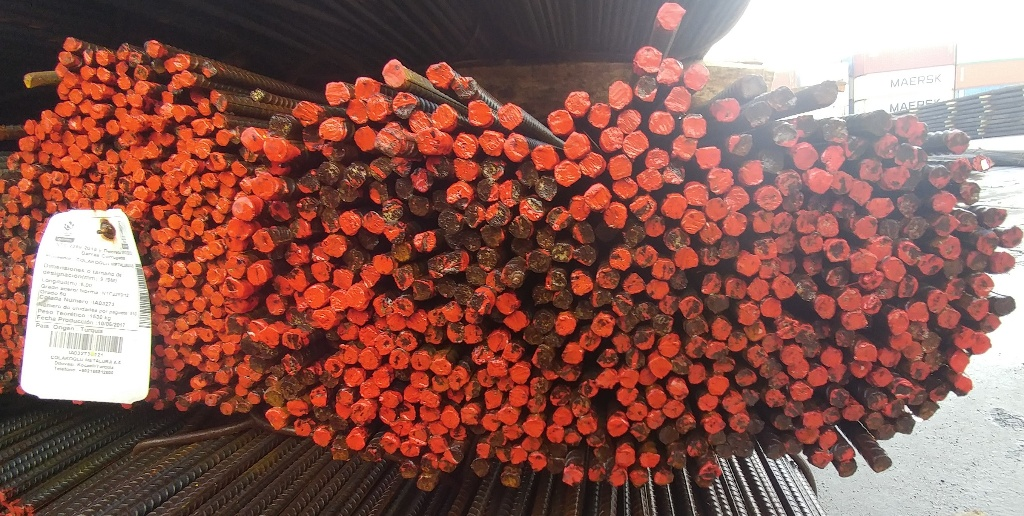dipstick: (585, 182, 611, 213), (768, 84, 797, 110), (426, 61, 452, 89), (659, 2, 685, 30), (504, 133, 529, 162), (633, 46, 661, 71), (416, 129, 442, 155), (744, 102, 770, 128), (873, 134, 899, 160), (292, 100, 319, 125), (478, 129, 503, 156), (638, 168, 665, 193), (685, 63, 710, 90), (739, 74, 766, 99), (707, 167, 732, 194), (532, 145, 556, 173), (883, 167, 912, 190), (382, 58, 404, 88), (547, 109, 572, 135), (663, 88, 689, 113), (616, 108, 641, 134), (761, 149, 787, 174), (352, 127, 375, 155), (452, 132, 475, 160), (565, 91, 588, 119), (445, 183, 470, 208), (682, 113, 707, 138), (251, 174, 277, 198), (319, 118, 345, 142), (325, 81, 349, 107), (555, 160, 579, 186), (713, 98, 739, 122), (868, 109, 892, 135), (801, 254, 825, 280), (467, 99, 490, 126), (622, 133, 649, 156), (726, 432, 753, 455), (240, 127, 264, 152), (300, 126, 324, 151), (344, 100, 369, 124), (376, 129, 400, 154), (631, 197, 656, 221), (814, 82, 839, 106), (826, 118, 850, 143), (859, 157, 883, 182), (826, 265, 851, 289), (634, 76, 657, 102), (499, 103, 521, 130), (775, 173, 802, 195), (866, 238, 893, 260), (608, 82, 629, 110), (725, 188, 749, 212), (322, 234, 345, 259), (547, 207, 570, 232), (673, 134, 696, 159), (808, 168, 831, 193), (854, 216, 879, 239), (499, 180, 521, 206), (566, 133, 588, 159), (649, 111, 675, 133), (696, 146, 722, 168), (822, 145, 844, 171), (833, 195, 855, 221), (592, 313, 614, 339), (411, 166, 432, 193), (755, 188, 782, 209), (413, 231, 437, 254), (481, 156, 505, 179), (508, 216, 532, 239), (580, 155, 603, 179), (609, 248, 632, 272), (740, 161, 764, 184), (750, 210, 773, 234), (932, 190, 956, 213), (919, 254, 943, 277), (736, 253, 759, 277), (858, 269, 882, 292), (773, 276, 796, 300), (485, 203, 510, 225), (772, 124, 797, 146), (898, 240, 920, 265), (851, 251, 876, 273), (778, 317, 800, 342), (264, 136, 285, 162), (392, 92, 413, 118), (516, 161, 537, 187), (571, 221, 597, 242), (663, 194, 684, 220), (896, 193, 922, 214), (606, 203, 626, 230), (660, 58, 680, 85), (867, 197, 894, 217), (317, 162, 340, 185), (344, 164, 367, 187), (409, 110, 432, 133), (600, 128, 623, 151), (754, 238, 777, 261), (743, 320, 766, 343), (296, 197, 318, 221), (355, 76, 377, 100), (452, 158, 476, 180), (363, 210, 385, 234), (608, 156, 632, 178), (746, 278, 770, 300), (287, 242, 308, 267), (426, 155, 447, 180), (339, 211, 360, 236), (612, 178, 637, 199), (684, 183, 709, 204), (992, 252, 1017, 273), (711, 316, 732, 341), (286, 267, 306, 293), (664, 230, 691, 249), (228, 218, 251, 240), (232, 198, 254, 221), (226, 313, 249, 335), (453, 76, 476, 98), (580, 330, 602, 353), (571, 271, 593, 294), (596, 220, 619, 242), (794, 144, 816, 167), (724, 214, 747, 236), (676, 248, 699, 270), (797, 211, 819, 234), (967, 249, 989, 272), (883, 258, 905, 281), (826, 240, 849, 262), (624, 273, 647, 295), (647, 277, 669, 300), (680, 296, 703, 318), (536, 177, 557, 201), (933, 214, 957, 235), (907, 301, 931, 322), (723, 392, 747, 413), (433, 104, 453, 129), (570, 197, 590, 222), (503, 312, 528, 332), (347, 285, 366, 311), (472, 291, 491, 317), (270, 116, 292, 138), (408, 195, 430, 217), (357, 348, 379, 370), (521, 198, 543, 220), (502, 267, 524, 289), (551, 243, 573, 265), (573, 244, 595, 266), (623, 224, 645, 246), (597, 267, 619, 289), (635, 246, 657, 268), (653, 259, 675, 281), (761, 297, 783, 319), (297, 172, 318, 195), (369, 158, 390, 181), (555, 312, 576, 335), (532, 344, 553, 367), (665, 163, 686, 186), (706, 199, 729, 220), (818, 213, 839, 236), (946, 131, 969, 152), (252, 228, 272, 252), (304, 288, 328, 308), (590, 103, 610, 127), (535, 225, 555, 249), (888, 311, 908, 335), (973, 273, 993, 297), (764, 389, 788, 409), (740, 301, 760, 325), (357, 231, 382, 250), (360, 264, 379, 289), (729, 135, 754, 154), (894, 146, 919, 165), (368, 95, 386, 121), (841, 312, 867, 330), (272, 275, 293, 297), (289, 218, 311, 239), (390, 240, 411, 262), (477, 179, 498, 201), (563, 342, 584, 364), (905, 217, 926, 239), (977, 232, 999, 253), (596, 369, 618, 390), (264, 293, 284, 316), (393, 268, 413, 291), (372, 294, 392, 317), (351, 403, 371, 426), (846, 137, 866, 160), (851, 180, 871, 203), (983, 208, 1006, 228), (606, 418, 629, 438), (659, 334, 679, 357), (320, 208, 339, 232), (833, 170, 852, 194), (952, 160, 971, 184), (838, 290, 862, 309), (789, 382, 813, 401), (686, 336, 705, 360), (799, 235, 824, 253), (848, 360, 873, 378), (728, 277, 746, 302), (269, 201, 290, 222), (319, 186, 340, 207), (310, 242, 331, 263), (310, 262, 331, 283), (372, 255, 393, 276), (496, 293, 517, 314), (459, 406, 480, 427), (879, 218, 900, 239), (957, 212, 978, 233), (939, 237, 960, 258), (796, 281, 817, 302), (896, 413, 917, 434), (787, 361, 808, 382), (246, 264, 266, 286), (439, 212, 461, 232), (476, 248, 498, 268), (485, 332, 507, 352), (645, 216, 665, 238), (645, 149, 667, 169), (684, 212, 704, 234), (782, 191, 804, 211), (896, 115, 916, 137), (777, 255, 797, 277), (926, 352, 946, 374), (736, 367, 758, 387), (668, 378, 688, 400), (646, 388, 666, 410), (650, 356, 670, 378), (670, 355, 690, 377), (339, 181, 358, 204), (482, 226, 505, 245), (528, 451, 547, 474), (972, 333, 991, 356), (759, 358, 782, 377), (266, 406, 284, 430), (899, 276, 917, 300), (928, 290, 946, 314), (869, 368, 893, 386), (682, 319, 709, 335), (911, 122, 928, 147), (94, 46, 114, 67), (391, 156, 411, 177), (383, 201, 403, 222), (412, 280, 433, 300), (393, 297, 414, 317), (313, 309, 334, 329), (337, 344, 357, 365), (443, 302, 463, 323), (461, 229, 481, 250), (511, 237, 532, 257), (523, 418, 544, 438), (563, 464, 583, 485), (529, 251, 549, 272), (930, 167, 950, 188), (960, 182, 980, 203), (968, 299, 988, 320), (616, 445, 636, 466), (619, 368, 639, 389), (700, 273, 721, 293), (226, 257, 245, 279), (322, 143, 344, 162), (369, 182, 388, 204), (333, 268, 352, 290), (408, 311, 427, 333), (773, 213, 792, 235), (946, 279, 965, 301), (714, 357, 736, 376), (669, 447, 688, 469), (659, 425, 681, 444), (593, 444, 615, 463), (224, 297, 247, 315), (286, 399, 309, 417), (395, 176, 413, 199), (451, 367, 469, 390), (728, 331, 746, 354), (533, 312, 553, 332), (702, 223, 722, 243), (808, 367, 828, 387), (635, 329, 655, 349), (397, 330, 416, 351), (463, 324, 482, 345), (508, 389, 529, 408), (524, 325, 543, 346), (553, 407, 574, 426), (1002, 227, 1021, 248), (816, 297, 835, 318), (780, 345, 801, 364), (730, 413, 751, 432), (708, 375, 729, 394), (687, 438, 708, 457), (627, 402, 648, 421), (639, 366, 658, 387), (653, 314, 672, 335), (281, 353, 299, 375), (385, 313, 407, 331), (359, 325, 377, 347), (444, 255, 466, 273), (938, 310, 960, 328), (856, 345, 878, 363), (707, 294, 729, 312), (591, 290, 613, 308), (330, 290, 347, 313), (993, 298, 1016, 315), (809, 451, 832, 468), (747, 345, 764, 368), (617, 315, 640, 332), (143, 39, 162, 59), (345, 250, 364, 270), (324, 358, 343, 378), (312, 404, 332, 423), (344, 367, 363, 387), (410, 352, 430, 371), (426, 257, 445, 277), (510, 364, 529, 384), (503, 343, 523, 362), (532, 285, 552, 304), (546, 272, 566, 291), (576, 299, 595, 319), (718, 240, 738, 259), (862, 294, 881, 314), (769, 372, 788, 392), (801, 342, 821, 361), (636, 302, 656, 321), (625, 349, 645, 368), (263, 389, 284, 407), (385, 225, 406, 243), (375, 334, 393, 355), (483, 389, 501, 410), (554, 289, 572, 310), (471, 459, 492, 477), (577, 415, 595, 436), (588, 464, 609, 482), (972, 155, 993, 173), (878, 279, 896, 300), (930, 384, 951, 402), (836, 328, 857, 346), (803, 410, 824, 428), (675, 415, 696, 433), (629, 423, 650, 441), (598, 349, 619, 367), (222, 281, 244, 298), (400, 441, 422, 458), (616, 387, 638, 404), (225, 237, 248, 253), (466, 204, 482, 227), (688, 362, 704, 385), (319, 370, 338, 389), (372, 369, 391, 388), (472, 346, 491, 365), (700, 247, 719, 266), (830, 389, 849, 408), (613, 294, 632, 313), (420, 389, 440, 407), (441, 410, 459, 430), (424, 326, 442, 346), (466, 267, 486, 285), (453, 285, 471, 305), (481, 413, 501, 431), (498, 407, 518, 425), (547, 424, 565, 444), (943, 259, 963, 277), (954, 329, 974, 347), (951, 352, 969, 372), (921, 333, 939, 353), (911, 360, 929, 380), (955, 376, 973, 396), (813, 321, 833, 339), (822, 348, 842, 366), (838, 461, 858, 479), (819, 430, 837, 450), (761, 333, 781, 351), (701, 462, 721, 480), (612, 333, 630, 353), (658, 296, 678, 314), (282, 333, 303, 350), (430, 358, 451, 375), (446, 322, 463, 343), (541, 362, 562, 379), (572, 395, 589, 416), (698, 393, 719, 410), (646, 409, 663, 430), (418, 404, 440, 420), (489, 271, 505, 293), (795, 428, 817, 444), (843, 405, 865, 421), (704, 414, 726, 430), (241, 336, 259, 355), (280, 381, 298, 400), (293, 417, 311, 436), (285, 305, 303, 324), (389, 350, 408, 368), (309, 387, 328, 405), (313, 428, 331, 447), (431, 374, 450, 392), (400, 461, 418, 480), (417, 474, 436, 492), (434, 279, 453, 297), (495, 376, 514, 394), (563, 363, 581, 382), (551, 388, 570, 406), (903, 342, 922, 360), (262, 327, 279, 347), (337, 324, 357, 341), (775, 236, 795, 253), (893, 382, 913, 399), (868, 391, 888, 408), (663, 401, 683, 418), (670, 271, 687, 291), (248, 320, 264, 341), (503, 425, 524, 441), (908, 322, 929, 338), (797, 324, 813, 345), (347, 309, 369, 324), (774, 415, 796, 430), (161, 173, 179, 191), (419, 454, 437, 472), (428, 436, 446, 454), (476, 371, 494, 389), (874, 455, 892, 473), (208, 153, 227, 170), (347, 433, 366, 450), (380, 435, 397, 454), (488, 361, 507, 378), (445, 447, 464, 464), (880, 348, 897, 367), (867, 411, 886, 428), (428, 421, 448, 437), (499, 473, 519, 489), (759, 263, 779, 279), (707, 341, 727, 357), (640, 452, 660, 468), (629, 469, 649, 485), (580, 381, 600, 397), (587, 431, 608, 446), (432, 190, 446, 212), (77, 64, 95, 81), (94, 66, 112, 83), (411, 371, 428, 389), (428, 309, 445, 327), (528, 396, 546, 413), (494, 444, 511, 462), (511, 445, 528, 463), (523, 437, 541, 454), (564, 429, 581, 447), (919, 402, 936, 420), (785, 401, 803, 418), (61, 36, 80, 52), (114, 75, 133, 91), (292, 292, 308, 311), (334, 403, 353, 419), (360, 383, 379, 399), (379, 392, 398, 408), (885, 401, 904, 417), (765, 443, 784, 459), (654, 469, 673, 485), (161, 190, 181, 205), (444, 234, 464, 249), (837, 447, 857, 462), (61, 73, 78, 90), (206, 268, 223, 285), (378, 407, 395, 424), (411, 424, 428, 441), (983, 314, 1000, 331), (823, 408, 840, 425), (610, 469, 627, 486), (115, 42, 131, 60), (218, 171, 236, 187), (329, 414, 347, 430), (336, 389, 354, 405), (530, 378, 548, 394), (449, 426, 467, 442), (741, 389, 759, 405), (877, 426, 899, 439), (80, 47, 95, 66), (175, 53, 190, 72), (118, 133, 137, 148), (239, 176, 254, 195), (400, 402, 415, 421), (446, 389, 465, 404), (464, 305, 479, 324), (19, 163, 38, 178), (330, 448, 350, 462), (544, 333, 564, 347), (549, 444, 569, 458), (113, 60, 130, 76), (126, 91, 143, 107), (202, 173, 218, 190), (403, 385, 419, 402), (475, 443, 492, 459), (910, 390, 927, 406), (829, 365, 845, 382), (80, 80, 95, 98), (151, 58, 166, 76), (300, 368, 315, 386), (181, 70, 195, 89), (172, 260, 186, 279), (465, 382, 479, 401), (55, 50, 75, 63), (52, 61, 68, 77), (111, 91, 127, 107), (231, 161, 247, 177), (717, 444, 733, 460), (132, 65, 149, 80), (150, 115, 165, 132), (250, 355, 265, 372), (393, 420, 410, 435), (55, 82, 69, 100), (202, 60, 216, 78), (215, 129, 229, 147), (488, 432, 506, 446), (439, 459, 457, 473), (127, 51, 142, 67), (127, 202, 142, 218), (195, 143, 210, 159), (192, 120, 208, 135), (167, 214, 182, 230), (186, 193, 202, 208), (548, 457, 563, 473), (748, 419, 764, 434), (189, 88, 206, 102), (145, 143, 159, 160), (191, 220, 205, 237), (158, 274, 175, 288), (890, 335, 907, 349), (62, 102, 77, 117), (91, 84, 105, 100), (134, 80, 150, 94), (79, 99, 93, 115), (90, 104, 104, 120), (186, 261, 202, 275), (192, 247, 206, 263), (395, 369, 411, 383), (69, 88, 82, 105), (212, 112, 225, 129), (190, 176, 203, 193), (708, 431, 725, 444), (181, 203, 193, 221), (23, 118, 35, 136), (17, 150, 35, 162), (68, 116, 82, 131), (105, 120, 119, 135), (198, 101, 212, 116), (61, 131, 75, 146), (130, 146, 145, 160), (69, 176, 84, 190), (182, 161, 196, 176), (219, 184, 234, 198), (211, 210, 226, 224), (180, 225, 194, 240), (5, 200, 20, 214), (164, 56, 175, 75), (21, 73, 34, 89), (172, 167, 185, 183), (138, 231, 151, 247), (205, 191, 218, 207), (207, 345, 220, 361), (333, 435, 349, 448), (19, 137, 35, 150), (173, 105, 184, 123), (203, 245, 214, 263), (113, 107, 127, 121), (106, 149, 120, 163), (96, 160, 110, 174), (118, 177, 132, 191), (133, 186, 147, 200), (146, 177, 160, 191), (179, 183, 193, 197), (158, 244, 172, 258), (181, 274, 195, 288), (235, 384, 249, 398), (367, 447, 381, 461), (18, 193, 32, 207), (173, 153, 186, 168), (217, 198, 230, 213), (158, 322, 171, 337), (175, 317, 188, 332), (147, 389, 160, 404), (16, 178, 31, 191), (76, 134, 88, 150), (8, 184, 20, 200), (216, 95, 227, 112), (161, 90, 174, 104), (250, 88, 263, 102), (82, 117, 95, 131), (52, 143, 65, 157), (88, 170, 102, 183), (105, 189, 119, 202), (150, 160, 163, 174), (172, 239, 185, 253), (156, 260, 170, 273), (193, 297, 206, 311), (173, 301, 187, 314), (200, 284, 213, 298), (182, 332, 195, 346), (164, 368, 178, 381), (215, 371, 229, 384), (265, 375, 278, 389), (786, 439, 799, 453), (5, 214, 18, 228), (3, 241, 16, 255), (120, 115, 132, 130), (160, 103, 172, 118), (161, 133, 173, 148), (92, 198, 107, 210), (193, 207, 208, 219), (193, 376, 208, 388), (128, 118, 139, 134), (156, 304, 172, 315), (8, 154, 19, 170), (68, 146, 81, 159), (65, 189, 78, 202), (50, 188, 63, 201), (44, 201, 57, 214), (167, 289, 180, 302), (185, 312, 198, 325), (211, 319, 224, 332), (199, 329, 212, 342), (165, 347, 178, 360), (178, 346, 191, 359), (221, 342, 234, 355), (15, 224, 28, 237), (2, 226, 15, 239), (37, 151, 51, 163), (88, 130, 100, 144), (103, 174, 115, 188), (132, 168, 144, 182), (179, 127, 191, 141), (157, 230, 169, 244), (210, 243, 222, 257), (211, 292, 223, 306), (186, 353, 200, 365), (205, 360, 219, 372), (178, 394, 192, 406), (175, 401, 189, 413), (220, 402, 232, 416), (247, 393, 261, 405), (172, 74, 183, 89), (70, 162, 81, 177), (152, 205, 163, 220), (236, 403, 251, 414), (17, 241, 28, 256), (209, 89, 219, 105), (201, 311, 211, 327), (166, 80, 178, 93), (52, 120, 64, 133), (50, 156, 63, 168), (201, 232, 214, 244), (156, 288, 168, 301), (183, 288, 195, 301), (209, 306, 222, 318), (205, 394, 217, 407), (239, 376, 252, 388), (249, 369, 261, 382), (223, 356, 236, 368), (8, 238, 20, 251), (12, 265, 24, 278), (8, 312, 20, 325), (41, 119, 52, 133), (83, 184, 94, 198), (160, 161, 174, 172), (216, 225, 227, 239), (236, 366, 250, 377), (270, 366, 284, 377), (21, 215, 32, 229), (11, 276, 25, 287), (129, 107, 144, 117), (40, 174, 50, 189), (3, 326, 13, 341), (92, 143, 104, 155), (79, 198, 91, 210), (57, 201, 69, 213), (31, 209, 43, 221), (128, 159, 140, 171), (42, 140, 53, 153), (80, 155, 91, 168), (52, 172, 63, 185), (172, 359, 185, 370), (229, 333, 242, 344), (164, 388, 175, 401), (14, 292, 27, 303), (155, 344, 165, 358), (35, 125, 44, 140), (63, 156, 72, 171), (151, 367, 160, 382), (50, 131, 61, 143), (119, 149, 130, 161), (176, 141, 187, 153), (153, 399, 165, 410), (36, 221, 48, 232), (120, 163, 130, 176), (200, 344, 210, 357), (13, 251, 23, 264), (5, 266, 14, 280), (15, 322, 24, 336), (40, 190, 51, 201), (33, 232, 44, 243), (218, 331, 230, 341), (26, 255, 36, 267), (15, 336, 25, 348), (97, 186, 106, 199), (8, 281, 18, 292), (7, 300, 17, 311), (54, 104, 63, 116), (1, 309, 7, 326), (12, 348, 22, 358), (11, 359, 23, 367), (19, 306, 28, 316)
